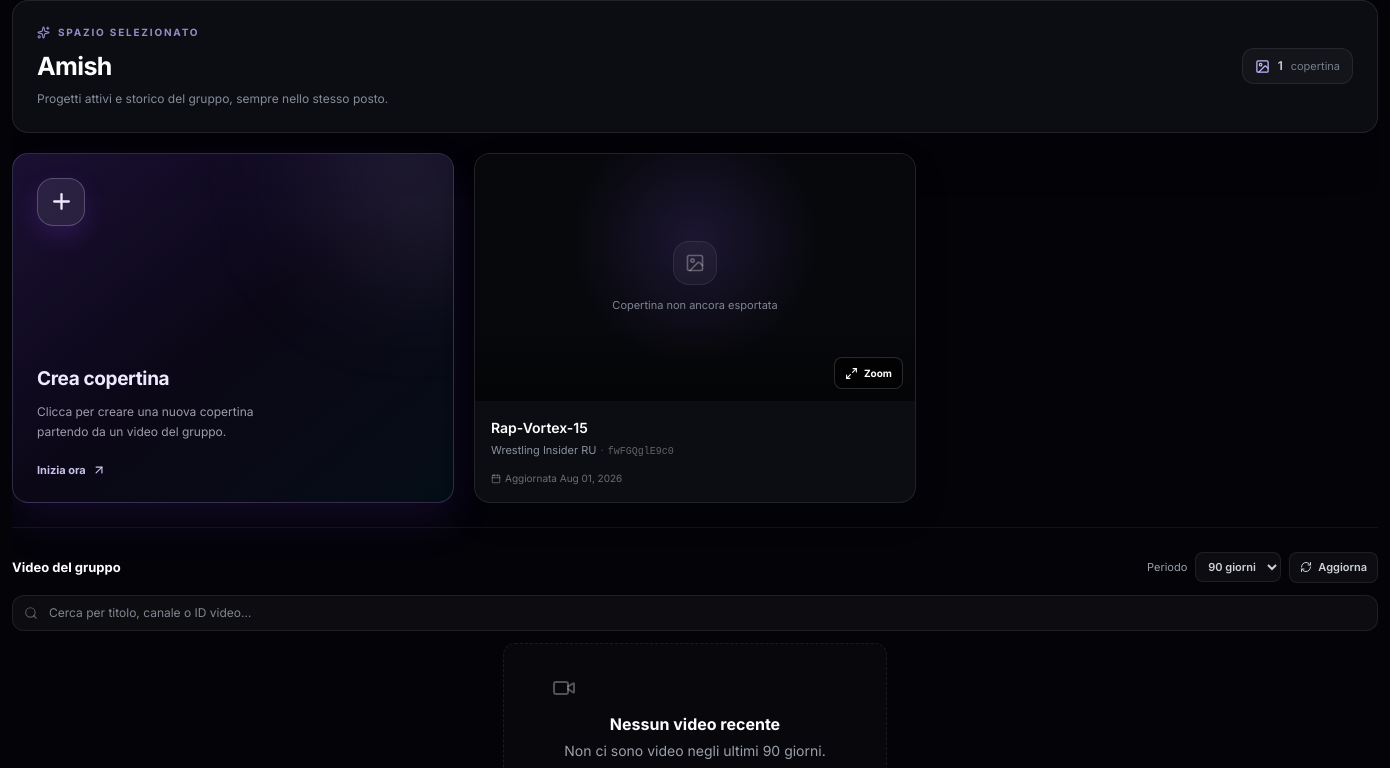
Test case: GroupCovers › cancels the inline rename on Escape without PUTting anything
Check: the number of elements with test id "group-cover-card" is 1, box 474,152 -> 916,503
Click the button with test id "cover-title-edit" at [539, 428], box 491,417 -> 899,438
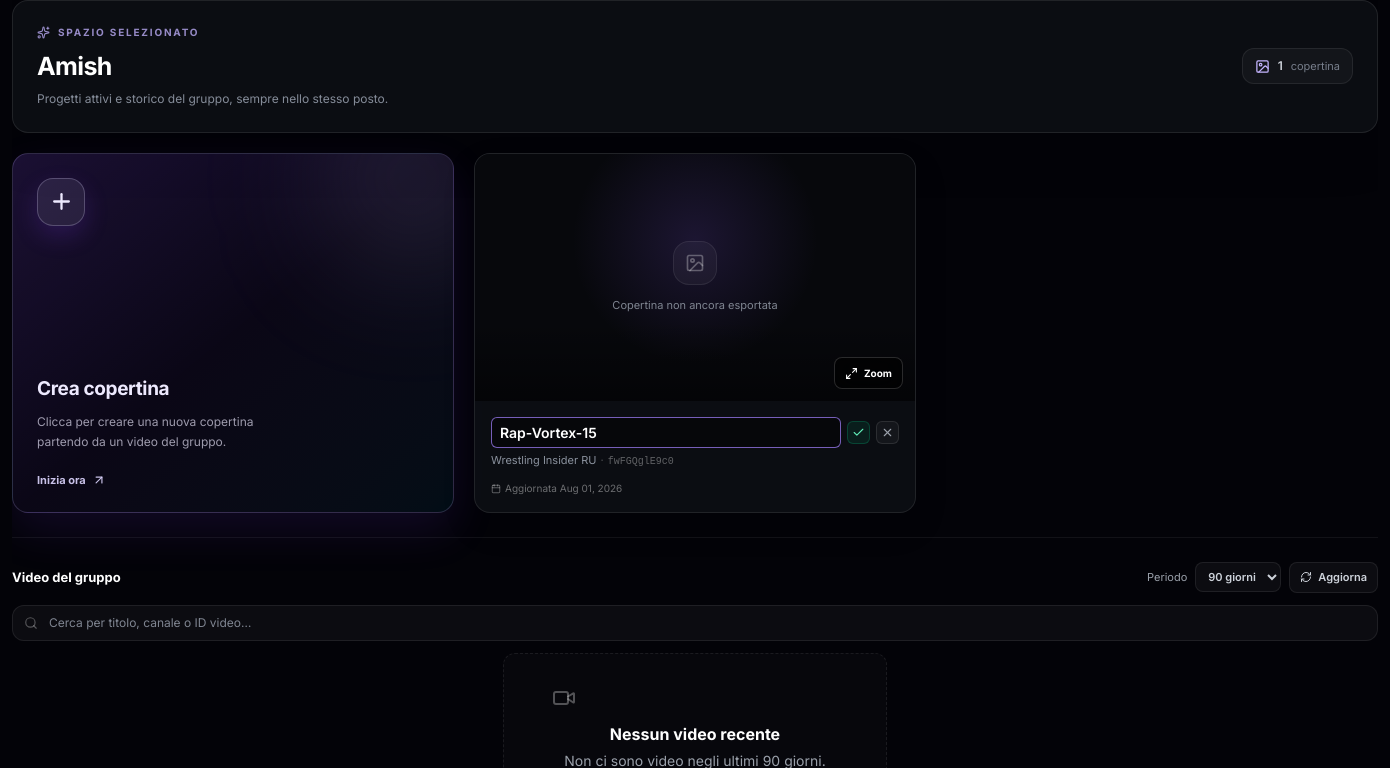
Replace the text in the field with test id "cover-title-input" with "Da non salvare" at [666, 432], box 491,417 -> 841,448
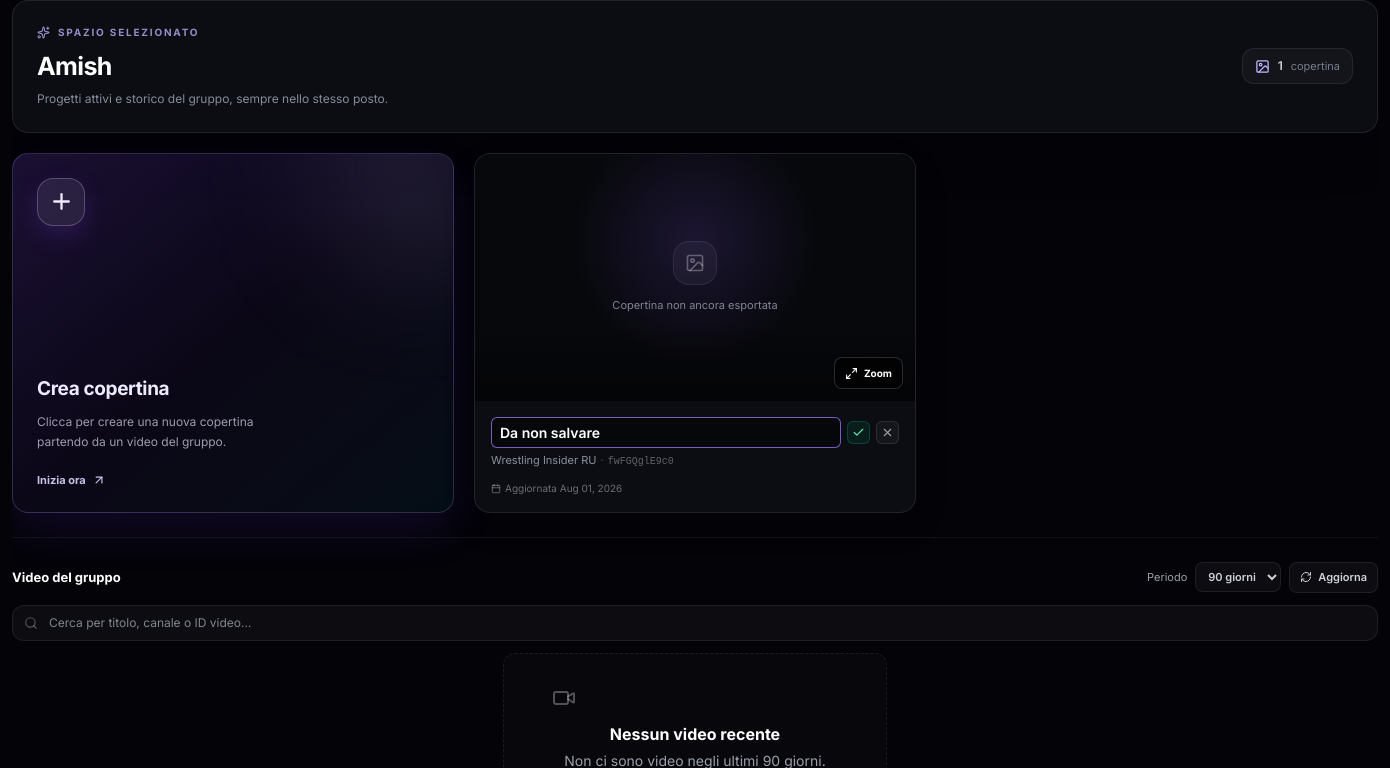
Press Escape in the field with test id "cover-title-input", box 491,417 -> 841,448
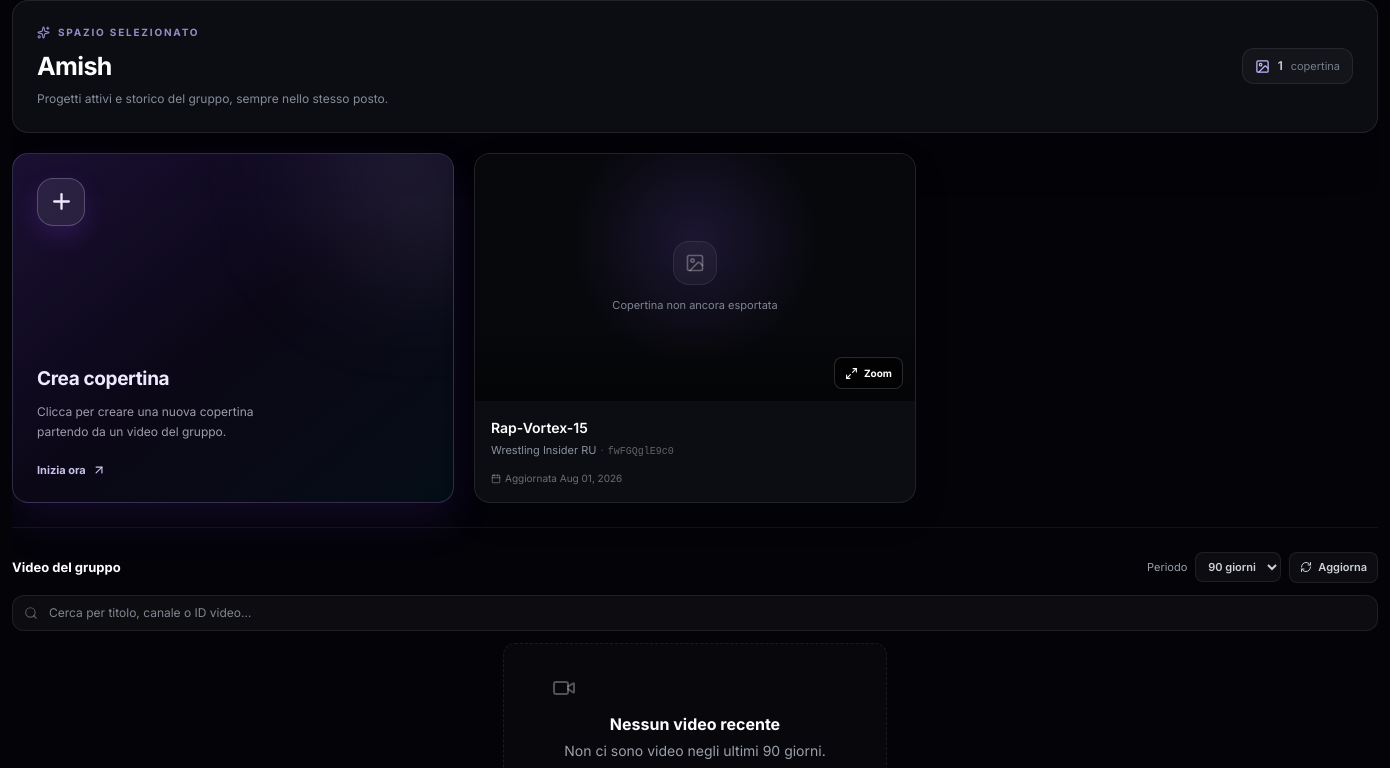
Check: the text "Rap-Vortex-15" is shown, box 491,417 -> 588,438
